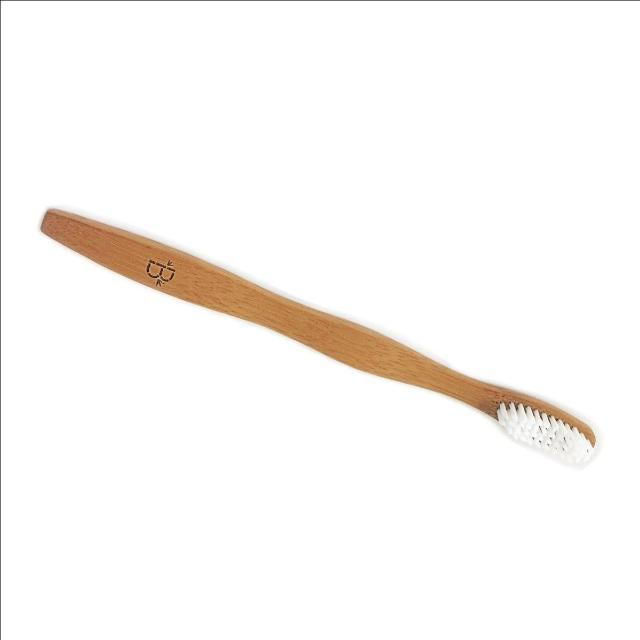toothbrush: (23, 138, 615, 480)
